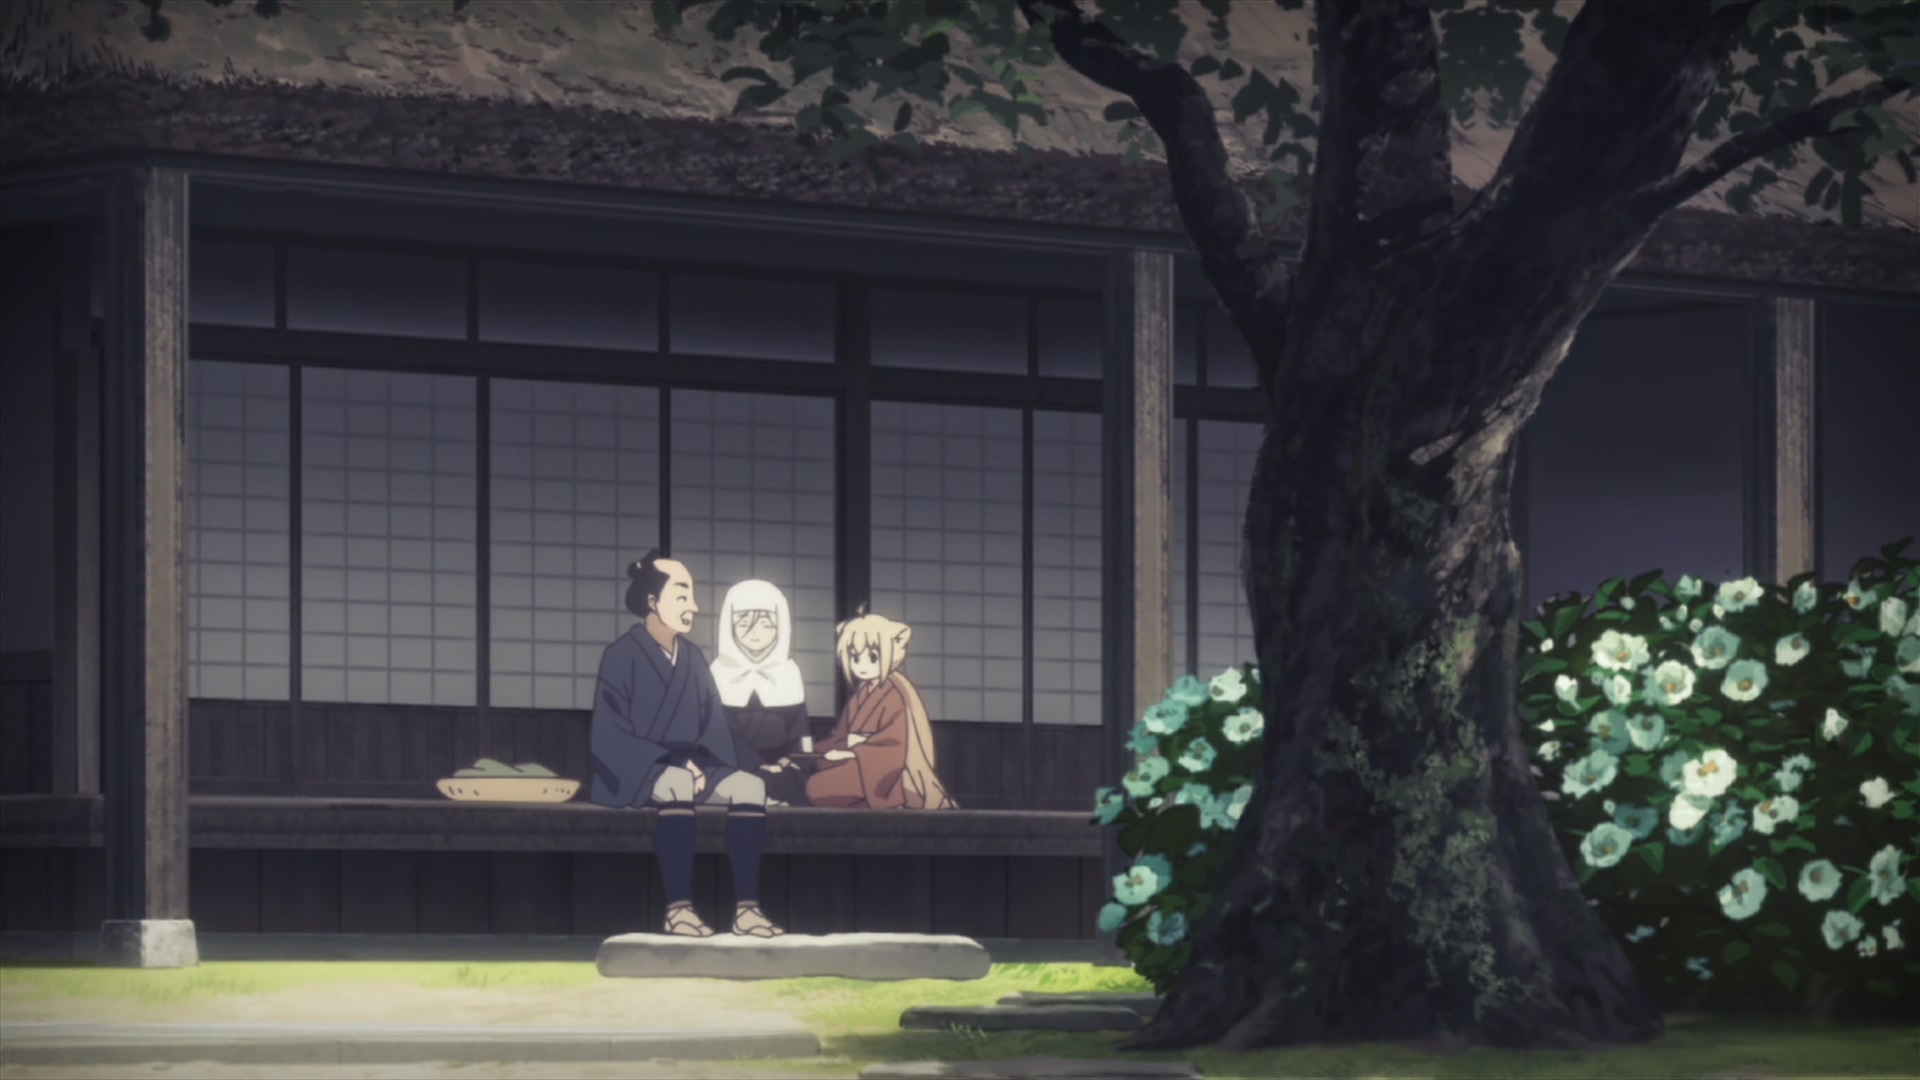八百比丘尼: (708, 579, 815, 806)
其他: (585, 549, 786, 938)
柚: (808, 600, 953, 814)
